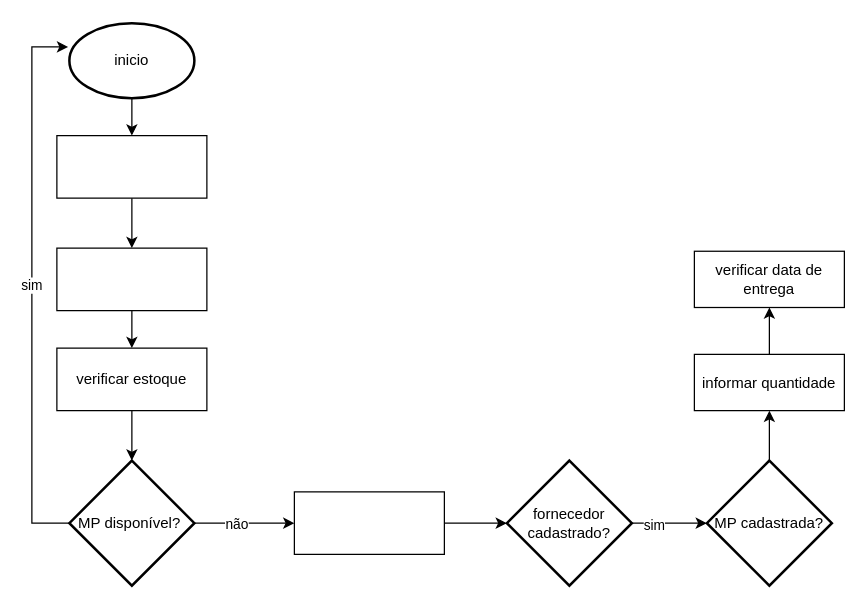
Some shapes in this 866 by 608 pixel diagram are drawn without their labels. The shapes that lost their labels are listed below. From the top down, each one's centre as x and y in pixels, then its label:
At (x=131, y=166): "lista de matéria prima".
At (x=131, y=279): "buscar por matéria prima".
At (x=368, y=522): "consultar fornecedor".
